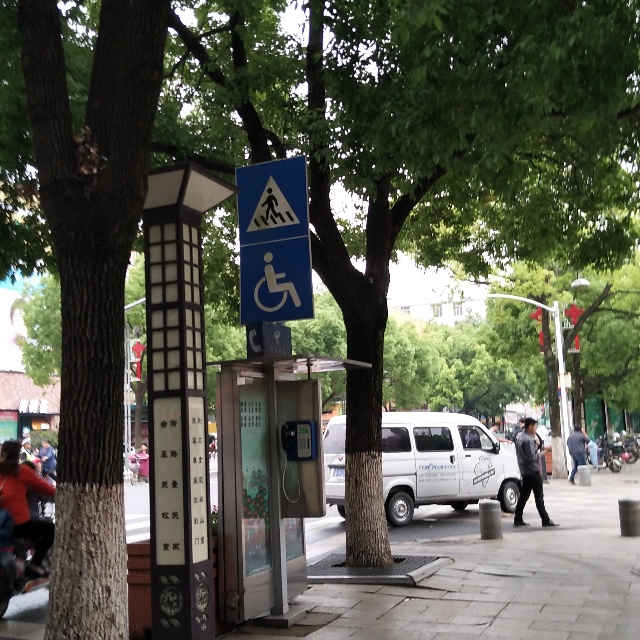crosswalk: (242, 170, 304, 233)
